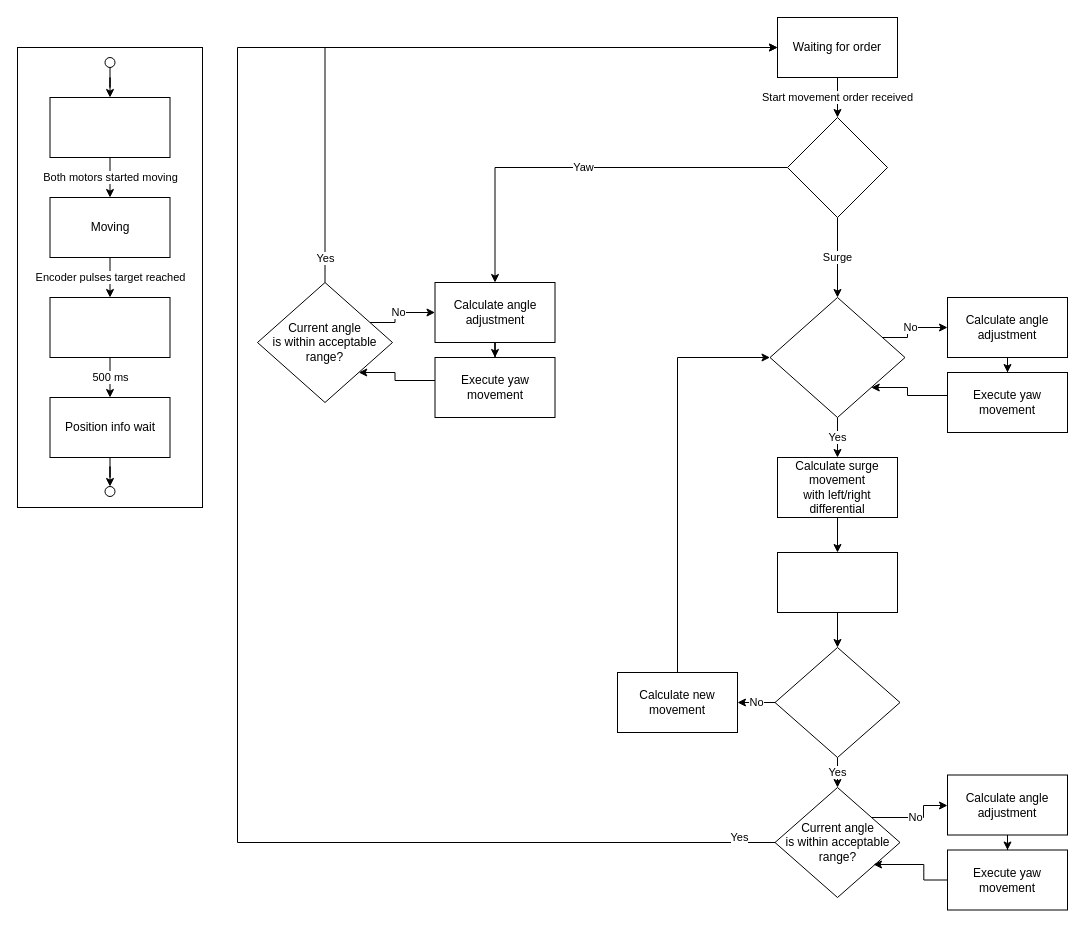
The diagram is 1085 pixels wide and 928 high, and some of its shapes have lost their labels. The shapes that lost their labels are listed below. From the top down, each one's box as (x1, y1, x2, y2) in pixels, then its label:
(49, 96, 170, 158): Startup
(786, 116, 888, 218): Type of movement
(16, 46, 202, 508): Movement Execution
(49, 296, 170, 358): Brakes
(769, 296, 905, 418): Current angle is correct for direction of movement?
(776, 552, 898, 612): Execute surge movement
(774, 646, 900, 758): Current position is within acceptable range?
